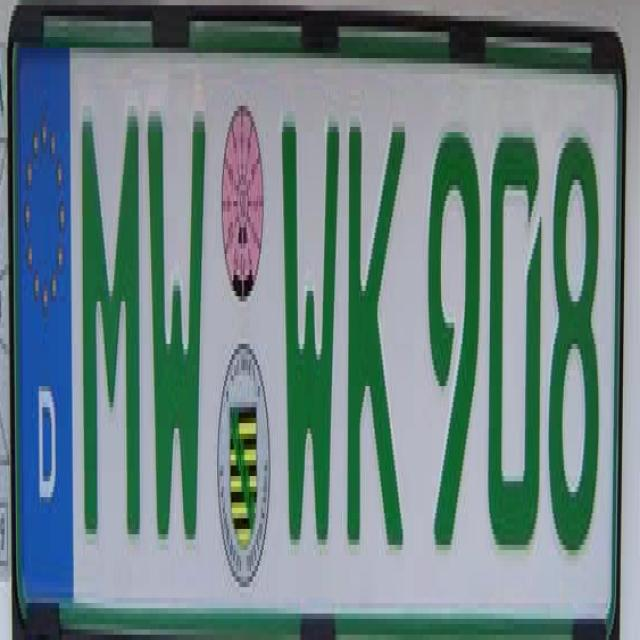Allemagne: (10, 46, 73, 619)
EU: (14, 38, 617, 622)
